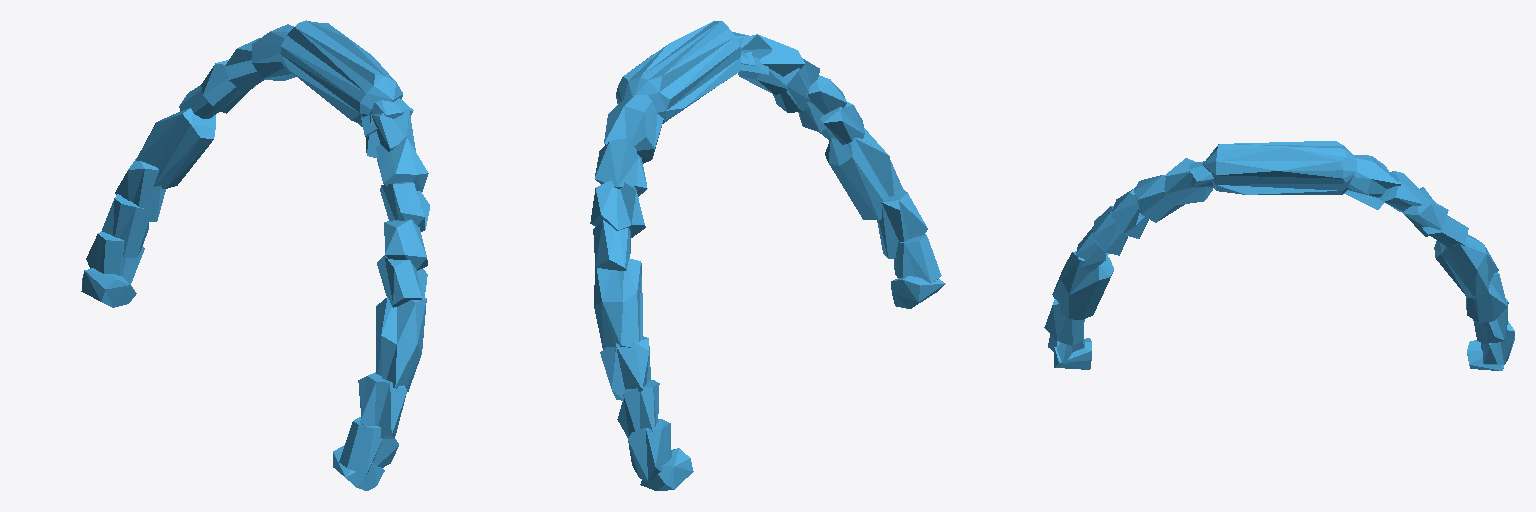
URDF robot description (partnet_2627c3acbf2993d7f9651db54962898):
<?xml version="1.0" ?><robot name="partnet_2627c3acbf2993d7f9651db54962898">
	<link name="base"/>
	<link name="link_0">
		<visual>
			<origin xyz="0 -0.6878317663455735 0.000856264051981295"/>
			<geometry>
				<mesh filename="new_objs/100435_link_0_7.obj"/>
			</geometry>
		</visual>
		<visual>
			<origin xyz="0 -0.6878317663455735 0.000856264051981295"/>
			<geometry>
				<mesh filename="new_objs/100435_link_0_11.obj"/>
			</geometry>
		</visual>
		<visual>
			<origin xyz="0 -0.6878317663455735 0.000856264051981295"/>
			<geometry>
				<mesh filename="new_objs/100435_link_0_19.obj"/>
			</geometry>
		</visual>
		<visual>
			<origin xyz="0 -0.6878317663455735 0.000856264051981295"/>
			<geometry>
				<mesh filename="new_objs/100435_link_0_15.obj"/>
			</geometry>
		</visual>
		<visual>
			<origin xyz="0 -0.6878317663455735 0.000856264051981295"/>
			<geometry>
				<mesh filename="new_objs/100435_link_0_6.obj"/>
			</geometry>
		</visual>
		<visual>
			<origin xyz="0 -0.6878317663455735 0.000856264051981295"/>
			<geometry>
				<mesh filename="new_objs/100435_link_0_5.obj"/>
			</geometry>
		</visual>
		<visual>
			<origin xyz="0 -0.6878317663455735 0.000856264051981295"/>
			<geometry>
				<mesh filename="new_objs/100435_link_0_13.obj"/>
			</geometry>
		</visual>
		<visual>
			<origin xyz="0 -0.6878317663455735 0.000856264051981295"/>
			<geometry>
				<mesh filename="new_objs/100435_link_0_8.obj"/>
			</geometry>
		</visual>
		<visual>
			<origin xyz="0 -0.6878317663455735 0.000856264051981295"/>
			<geometry>
				<mesh filename="new_objs/100435_link_0_4.obj"/>
			</geometry>
		</visual>
		<visual>
			<origin xyz="0 -0.6878317663455735 0.000856264051981295"/>
			<geometry>
				<mesh filename="new_objs/100435_link_0_14.obj"/>
			</geometry>
		</visual>
		<visual>
			<origin xyz="0 -0.6878317663455735 0.000856264051981295"/>
			<geometry>
				<mesh filename="new_objs/100435_link_0_9.obj"/>
			</geometry>
		</visual>
		<visual>
			<origin xyz="0 -0.6878317663455735 0.000856264051981295"/>
			<geometry>
				<mesh filename="new_objs/100435_link_0_10.obj"/>
			</geometry>
		</visual>
		<visual>
			<origin xyz="0 -0.6878317663455735 0.000856264051981295"/>
			<geometry>
				<mesh filename="new_objs/100435_link_0_17.obj"/>
			</geometry>
		</visual>
		<visual>
			<origin xyz="0 -0.6878317663455735 0.000856264051981295"/>
			<geometry>
				<mesh filename="new_objs/100435_link_0_3.obj"/>
			</geometry>
		</visual>
		<visual>
			<origin xyz="0 -0.6878317663455735 0.000856264051981295"/>
			<geometry>
				<mesh filename="new_objs/100435_link_0_18.obj"/>
			</geometry>
		</visual>
		<visual>
			<origin xyz="0 -0.6878317663455735 0.000856264051981295"/>
			<geometry>
				<mesh filename="new_objs/100435_link_0_16.obj"/>
			</geometry>
		</visual>
		<visual>
			<origin xyz="0 -0.6878317663455735 0.000856264051981295"/>
			<geometry>
				<mesh filename="new_objs/100435_link_0_2.obj"/>
			</geometry>
		</visual>
		<visual>
			<origin xyz="0 -0.6878317663455735 0.000856264051981295"/>
			<geometry>
				<mesh filename="new_objs/100435_link_0_12.obj"/>
			</geometry>
		</visual>
		<visual>
			<origin xyz="0 -0.6878317663455735 0.000856264051981295"/>
			<geometry>
				<mesh filename="new_objs/100435_link_0_1.obj"/>
			</geometry>
		</visual>
		<visual>
			<origin xyz="0 -0.6878317663455735 0.000856264051981295"/>
			<geometry>
				<mesh filename="new_objs/100435_link_0_0.obj"/>
			</geometry>
		</visual>
		
		
		
		<collision>
			<origin xyz="0 -0.6878317663455735 0.000856264051981295"/>
			<geometry>
				<mesh filename="new_objs/100435_link_0_7.obj"/>
			</geometry>
		</collision><collision>
			<origin xyz="0 -0.6878317663455735 0.000856264051981295"/>
			<geometry>
				<mesh filename="new_objs/100435_link_0_11.obj"/>
			</geometry>
		</collision><collision>
			<origin xyz="0 -0.6878317663455735 0.000856264051981295"/>
			<geometry>
				<mesh filename="new_objs/100435_link_0_19.obj"/>
			</geometry>
		</collision><collision>
			<origin xyz="0 -0.6878317663455735 0.000856264051981295"/>
			<geometry>
				<mesh filename="new_objs/100435_link_0_15.obj"/>
			</geometry>
		</collision><collision>
			<origin xyz="0 -0.6878317663455735 0.000856264051981295"/>
			<geometry>
				<mesh filename="new_objs/100435_link_0_6.obj"/>
			</geometry>
		</collision><collision>
			<origin xyz="0 -0.6878317663455735 0.000856264051981295"/>
			<geometry>
				<mesh filename="new_objs/100435_link_0_5.obj"/>
			</geometry>
		</collision><collision>
			<origin xyz="0 -0.6878317663455735 0.000856264051981295"/>
			<geometry>
				<mesh filename="new_objs/100435_link_0_13.obj"/>
			</geometry>
		</collision><collision>
			<origin xyz="0 -0.6878317663455735 0.000856264051981295"/>
			<geometry>
				<mesh filename="new_objs/100435_link_0_8.obj"/>
			</geometry>
		</collision><collision>
			<origin xyz="0 -0.6878317663455735 0.000856264051981295"/>
			<geometry>
				<mesh filename="new_objs/100435_link_0_4.obj"/>
			</geometry>
		</collision><collision>
			<origin xyz="0 -0.6878317663455735 0.000856264051981295"/>
			<geometry>
				<mesh filename="new_objs/100435_link_0_14.obj"/>
			</geometry>
		</collision><collision>
			<origin xyz="0 -0.6878317663455735 0.000856264051981295"/>
			<geometry>
				<mesh filename="new_objs/100435_link_0_9.obj"/>
			</geometry>
		</collision><collision>
			<origin xyz="0 -0.6878317663455735 0.000856264051981295"/>
			<geometry>
				<mesh filename="new_objs/100435_link_0_10.obj"/>
			</geometry>
		</collision><collision>
			<origin xyz="0 -0.6878317663455735 0.000856264051981295"/>
			<geometry>
				<mesh filename="new_objs/100435_link_0_17.obj"/>
			</geometry>
		</collision><collision>
			<origin xyz="0 -0.6878317663455735 0.000856264051981295"/>
			<geometry>
				<mesh filename="new_objs/100435_link_0_3.obj"/>
			</geometry>
		</collision><collision>
			<origin xyz="0 -0.6878317663455735 0.000856264051981295"/>
			<geometry>
				<mesh filename="new_objs/100435_link_0_18.obj"/>
			</geometry>
		</collision><collision>
			<origin xyz="0 -0.6878317663455735 0.000856264051981295"/>
			<geometry>
				<mesh filename="new_objs/100435_link_0_16.obj"/>
			</geometry>
		</collision><collision>
			<origin xyz="0 -0.6878317663455735 0.000856264051981295"/>
			<geometry>
				<mesh filename="new_objs/100435_link_0_2.obj"/>
			</geometry>
		</collision><collision>
			<origin xyz="0 -0.6878317663455735 0.000856264051981295"/>
			<geometry>
				<mesh filename="new_objs/100435_link_0_12.obj"/>
			</geometry>
		</collision><collision>
			<origin xyz="0 -0.6878317663455735 0.000856264051981295"/>
			<geometry>
				<mesh filename="new_objs/100435_link_0_1.obj"/>
			</geometry>
		</collision><collision>
			<origin xyz="0 -0.6878317663455735 0.000856264051981295"/>
			<geometry>
				<mesh filename="new_objs/100435_link_0_0.obj"/>
			</geometry>
		</collision></link>
	<joint name="joint_0" type="revolute">
		<origin xyz="0 0.6878317663455735 -0.000856264051981295"/>
		<axis xyz="-1 0 0"/>
		<child link="link_0"/>
		<parent link="link_1"/>
		<limit lower="0.827" upper="4.624424386084175"/>
	</joint>
	<link name="link_1">
		<collision>
			<origin xyz="0 0 0"/>
			<geometry>
				<mesh filename="new_objs/100435_link_1_11.obj"/>
			</geometry>
		</collision>
	<collision>
			<origin xyz="0 0 0"/>
			<geometry>
				<mesh filename="new_objs/100435_link_1_28.obj"/>
			</geometry>
		</collision>
	<collision>
			<origin xyz="0 0 0"/>
			<geometry>
				<mesh filename="new_objs/100435_link_1_37.obj"/>
			</geometry>
		</collision>
	<collision>
			<origin xyz="0 0 0"/>
			<geometry>
				<mesh filename="new_objs/100435_link_1_25.obj"/>
			</geometry>
		</collision>
	<collision>
			<origin xyz="0 0 0"/>
			<geometry>
				<mesh filename="new_objs/100435_link_1_0.obj"/>
			</geometry>
		</collision>
	<collision>
			<origin xyz="0 0 0"/>
			<geometry>
				<mesh filename="new_objs/100435_link_1_38.obj"/>
			</geometry>
		</collision>
	<collision>
			<origin xyz="0 0 0"/>
			<geometry>
				<mesh filename="new_objs/100435_link_1_36.obj"/>
			</geometry>
		</collision>
	<collision>
			<origin xyz="0 0 0"/>
			<geometry>
				<mesh filename="new_objs/100435_link_1_26.obj"/>
			</geometry>
		</collision>
	<collision>
			<origin xyz="0 0 0"/>
			<geometry>
				<mesh filename="new_objs/100435_link_1_1.obj"/>
			</geometry>
		</collision>
	<collision>
			<origin xyz="0 0 0"/>
			<geometry>
				<mesh filename="new_objs/100435_link_1_22.obj"/>
			</geometry>
		</collision>
	<collision>
			<origin xyz="0 0 0"/>
			<geometry>
				<mesh filename="new_objs/100435_link_1_31.obj"/>
			</geometry>
		</collision>
	<collision>
			<origin xyz="0 0 0"/>
			<geometry>
				<mesh filename="new_objs/100435_link_1_3.obj"/>
			</geometry>
		</collision>
	<collision>
			<origin xyz="0 0 0"/>
			<geometry>
				<mesh filename="new_objs/100435_link_1_5.obj"/>
			</geometry>
		</collision>
	<collision>
			<origin xyz="0 0 0"/>
			<geometry>
				<mesh filename="new_objs/100435_link_1_24.obj"/>
			</geometry>
		</collision>
	<collision>
			<origin xyz="0 0 0"/>
			<geometry>
				<mesh filename="new_objs/100435_link_1_10.obj"/>
			</geometry>
		</collision>
	<collision>
			<origin xyz="0 0 0"/>
			<geometry>
				<mesh filename="new_objs/100435_link_1_9.obj"/>
			</geometry>
		</collision>
	<collision>
			<origin xyz="0 0 0"/>
			<geometry>
				<mesh filename="new_objs/100435_link_1_16.obj"/>
			</geometry>
		</collision>
	<collision>
			<origin xyz="0 0 0"/>
			<geometry>
				<mesh filename="new_objs/100435_link_1_15.obj"/>
			</geometry>
		</collision>
	<collision>
			<origin xyz="0 0 0"/>
			<geometry>
				<mesh filename="new_objs/100435_link_1_18.obj"/>
			</geometry>
		</collision>
	<collision>
			<origin xyz="0 0 0"/>
			<geometry>
				<mesh filename="new_objs/100435_link_1_7.obj"/>
			</geometry>
		</collision>
	<collision>
			<origin xyz="0 0 0"/>
			<geometry>
				<mesh filename="new_objs/100435_link_1_8.obj"/>
			</geometry>
		</collision>
	<collision>
			<origin xyz="0 0 0"/>
			<geometry>
				<mesh filename="new_objs/100435_link_1_12.obj"/>
			</geometry>
		</collision>
	<collision>
			<origin xyz="0 0 0"/>
			<geometry>
				<mesh filename="new_objs/100435_link_1_34.obj"/>
			</geometry>
		</collision>
	<collision>
			<origin xyz="0 0 0"/>
			<geometry>
				<mesh filename="new_objs/100435_link_1_13.obj"/>
			</geometry>
		</collision>
	<collision>
			<origin xyz="0 0 0"/>
			<geometry>
				<mesh filename="new_objs/100435_link_1_33.obj"/>
			</geometry>
		</collision>
	<collision>
			<origin xyz="0 0 0"/>
			<geometry>
				<mesh filename="new_objs/100435_link_1_29.obj"/>
			</geometry>
		</collision>
	<collision>
			<origin xyz="0 0 0"/>
			<geometry>
				<mesh filename="new_objs/100435_link_1_2.obj"/>
			</geometry>
		</collision>
	<collision>
			<origin xyz="0 0 0"/>
			<geometry>
				<mesh filename="new_objs/100435_link_1_17.obj"/>
			</geometry>
		</collision>
	<collision>
			<origin xyz="0 0 0"/>
			<geometry>
				<mesh filename="new_objs/100435_link_1_21.obj"/>
			</geometry>
		</collision>
	<collision>
			<origin xyz="0 0 0"/>
			<geometry>
				<mesh filename="new_objs/100435_link_1_35.obj"/>
			</geometry>
		</collision>
	<collision>
			<origin xyz="0 0 0"/>
			<geometry>
				<mesh filename="new_objs/100435_link_1_32.obj"/>
			</geometry>
		</collision>
	<collision>
			<origin xyz="0 0 0"/>
			<geometry>
				<mesh filename="new_objs/100435_link_1_20.obj"/>
			</geometry>
		</collision>
	<collision>
			<origin xyz="0 0 0"/>
			<geometry>
				<mesh filename="new_objs/100435_link_1_27.obj"/>
			</geometry>
		</collision>
	<collision>
			<origin xyz="0 0 0"/>
			<geometry>
				<mesh filename="new_objs/100435_link_1_19.obj"/>
			</geometry>
		</collision>
	<collision>
			<origin xyz="0 0 0"/>
			<geometry>
				<mesh filename="new_objs/100435_link_1_30.obj"/>
			</geometry>
		</collision>
	<collision>
			<origin xyz="0 0 0"/>
			<geometry>
				<mesh filename="new_objs/100435_link_1_23.obj"/>
			</geometry>
		</collision>
	<collision>
			<origin xyz="0 0 0"/>
			<geometry>
				<mesh filename="new_objs/100435_link_1_40.obj"/>
			</geometry>
		</collision>
	<collision>
			<origin xyz="0 0 0"/>
			<geometry>
				<mesh filename="new_objs/100435_link_1_39.obj"/>
			</geometry>
		</collision>
	<collision>
			<origin xyz="0 0 0"/>
			<geometry>
				<mesh filename="new_objs/100435_link_1_4.obj"/>
			</geometry>
		</collision>
	<collision>
			<origin xyz="0 0 0"/>
			<geometry>
				<mesh filename="new_objs/100435_link_1_14.obj"/>
			</geometry>
		</collision>
	<collision>
			<origin xyz="0 0 0"/>
			<geometry>
				<mesh filename="new_objs/100435_link_1_6.obj"/>
			</geometry>
		</collision>
	<visual name="base_body-part[&quot;id]">
			<origin xyz="0 0 0"/>
			<geometry>
				<mesh filename="textured_objs/original-5.obj"/>
			</geometry>
		</visual>
		</link>
	<joint name="joint_1" type="fixed">
		<origin rpy="1.570796326794897 0 -1.570796326794897" xyz="0 0 0"/>
		<child link="link_1"/>
		<parent link="base"/>
	</joint>
</robot>

--- What the picture shows (computed from the rendered views, not written in the file) ---
The picture shows the robot from 3 angles, left to right: view 1: azimuth 30°, elevation 25°; view 2: azimuth 150°, elevation 25°; view 3: azimuth 270°, elevation 25°; orthographic projection.
Model partnet_2627c3acbf2993d7f9651db54962898 with 3 links and 2 joints (1 revolute, 1 fixed), rooted at base, posed joints at zero except 1 at the middle of their limits (joint_0 = 2.73).
Links seen in each view (by area): view 1: link_0; view 2: link_0; view 3: link_0.
Link boxes in pixels (box(x1,y1,x2,y2)): link_0: box(81, 20, 429, 490); link_0: box(590, 21, 945, 490); link_0: box(1044, 141, 1514, 370).
Size in the robot's own frame: 0.4309 by 1.32 by 0.8293 metres.
Meshes: 21 distinct files referenced, 20 mesh visuals loaded (20 OBJ); not drawn: 1 (reference not matched to a file when rendering).
